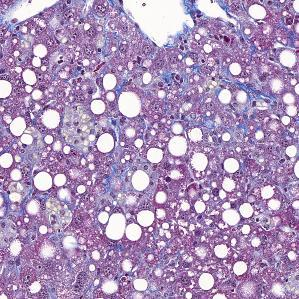fibrosis: (139, 42, 249, 121)
